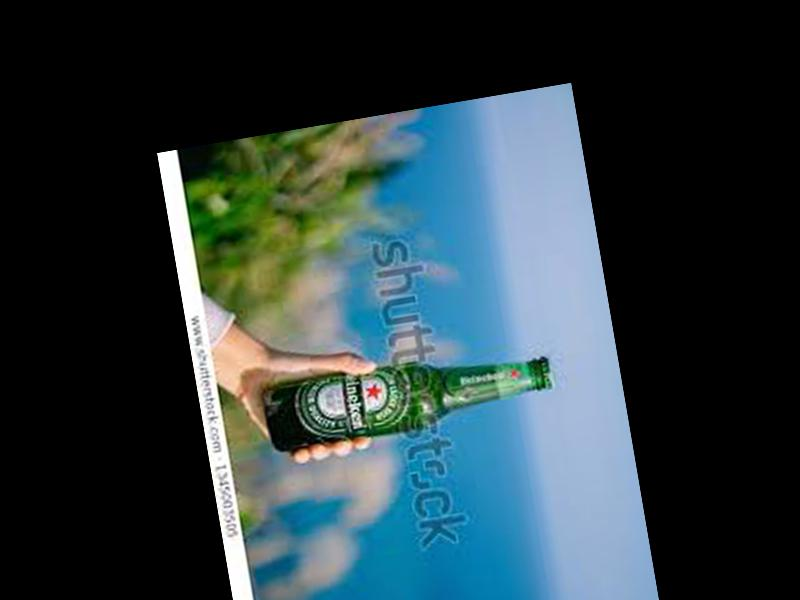Beer: (259, 337, 557, 454)
